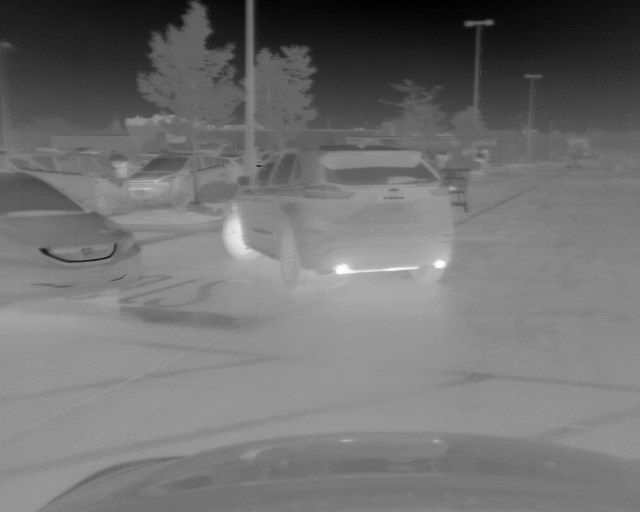car: (221, 145, 455, 291), (1, 171, 141, 294), (17, 153, 122, 217), (130, 153, 244, 207)
